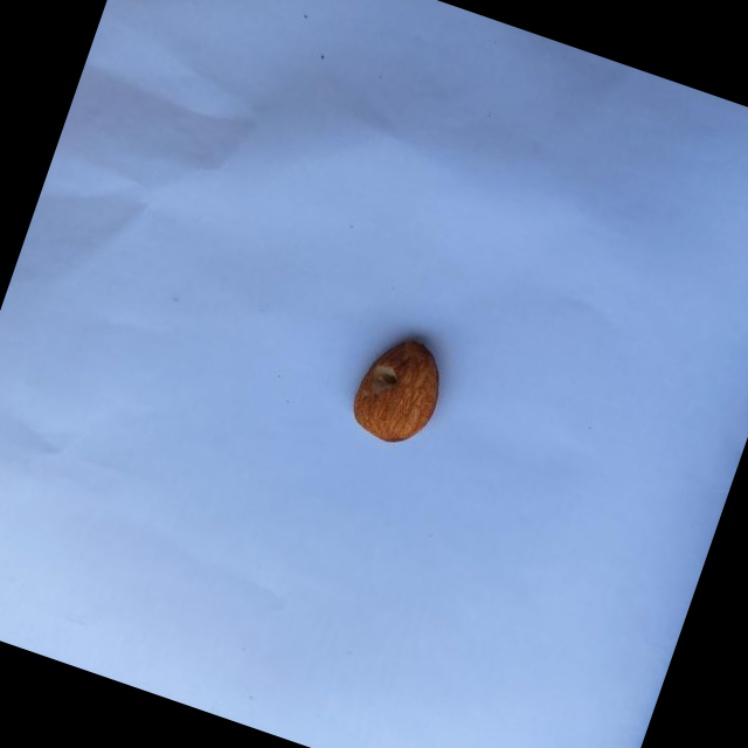grade3: (338, 321, 458, 458)
